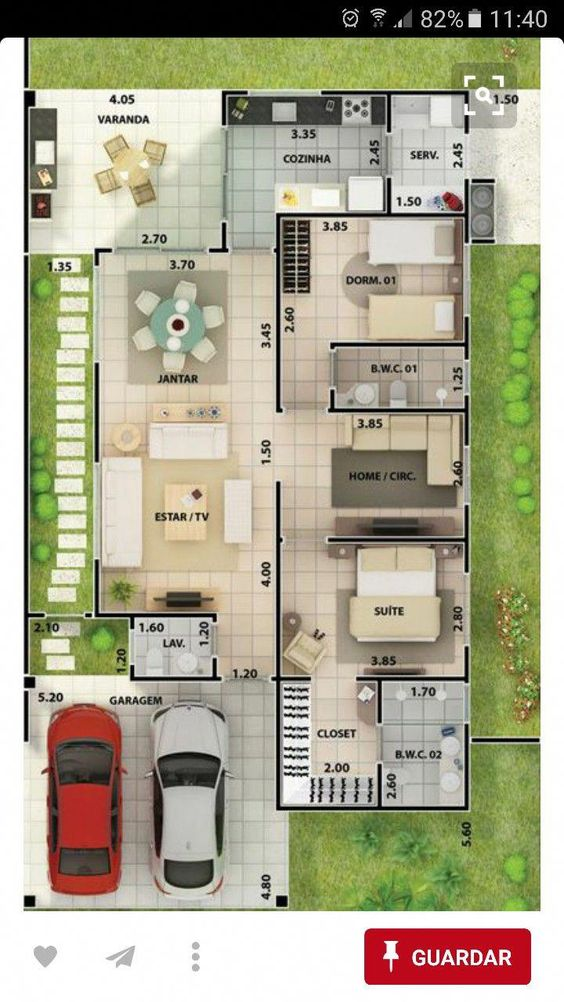wall: (23, 253, 28, 674), (275, 211, 280, 411), (275, 805, 467, 810), (23, 90, 28, 253), (276, 480, 280, 680), (275, 678, 281, 810), (276, 212, 470, 216), (323, 90, 470, 95), (327, 407, 469, 412), (327, 537, 469, 542), (330, 341, 470, 346), (85, 612, 217, 617), (94, 361, 100, 465), (469, 736, 541, 744), (357, 675, 470, 680), (463, 503, 470, 572), (130, 676, 221, 681), (464, 722, 469, 811), (464, 177, 470, 245), (463, 393, 470, 445), (94, 559, 100, 617), (22, 691, 28, 744), (463, 315, 470, 360), (386, 92, 393, 135), (377, 762, 382, 810), (377, 677, 382, 725), (386, 177, 392, 215), (465, 644, 470, 682), (221, 91, 226, 127), (470, 238, 495, 245), (23, 92, 35, 106), (206, 247, 229, 254), (221, 222, 226, 253), (471, 178, 496, 184), (211, 656, 217, 679), (129, 612, 136, 631), (330, 388, 335, 412), (464, 114, 470, 134), (94, 247, 112, 253), (221, 91, 248, 95), (93, 246, 98, 267), (24, 613, 44, 618), (130, 664, 133, 682)
